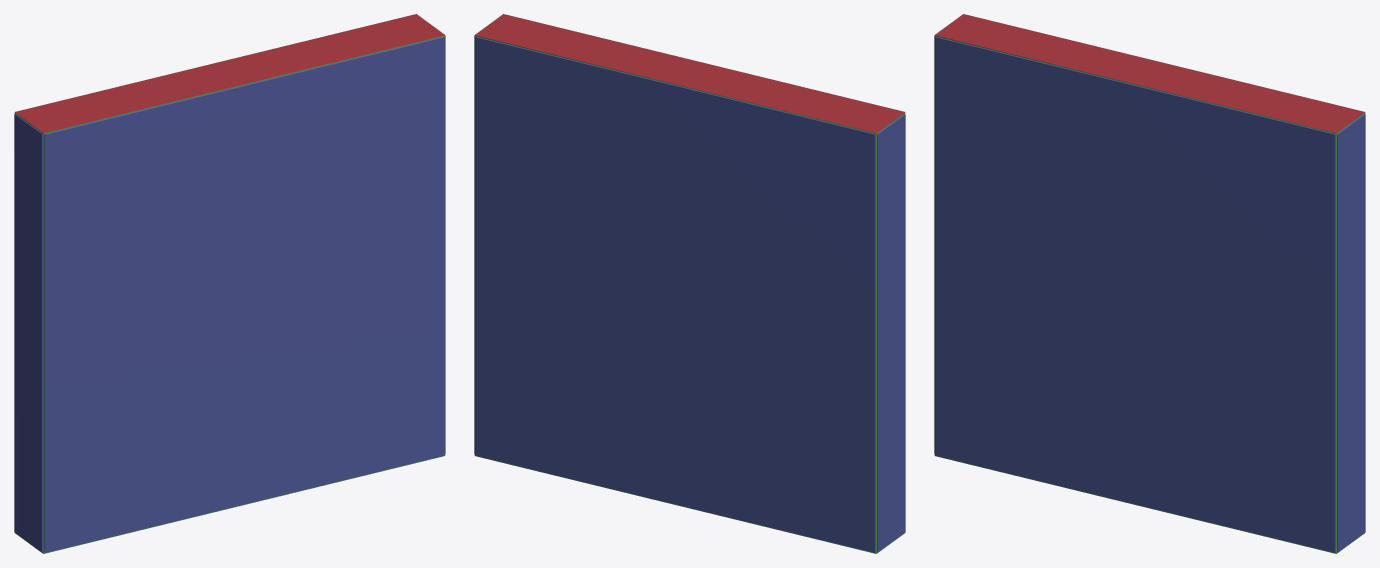
Rendered from SM_Wall_8x8_01.fbx.
3 views of the same model, side by side, from view 1: azimuth 30°, elevation 25°; view 2: azimuth 150°, elevation 25°; view 3: azimuth 330°, elevation 25° (orthographic).
Parts seen in each view (by area): view 1: SM_Wall_8x8_01; view 2: SM_Wall_8x8_01; view 3: SM_Wall_8x8_01.
Boxes of the visible parts, x1,y1,x2,y2 form: SM_Wall_8x8_01: (14, 14, 445, 553); SM_Wall_8x8_01: (474, 14, 905, 553); SM_Wall_8x8_01: (934, 14, 1365, 553).
Bounding box in the file's own units: 804 × 800 × 104.
